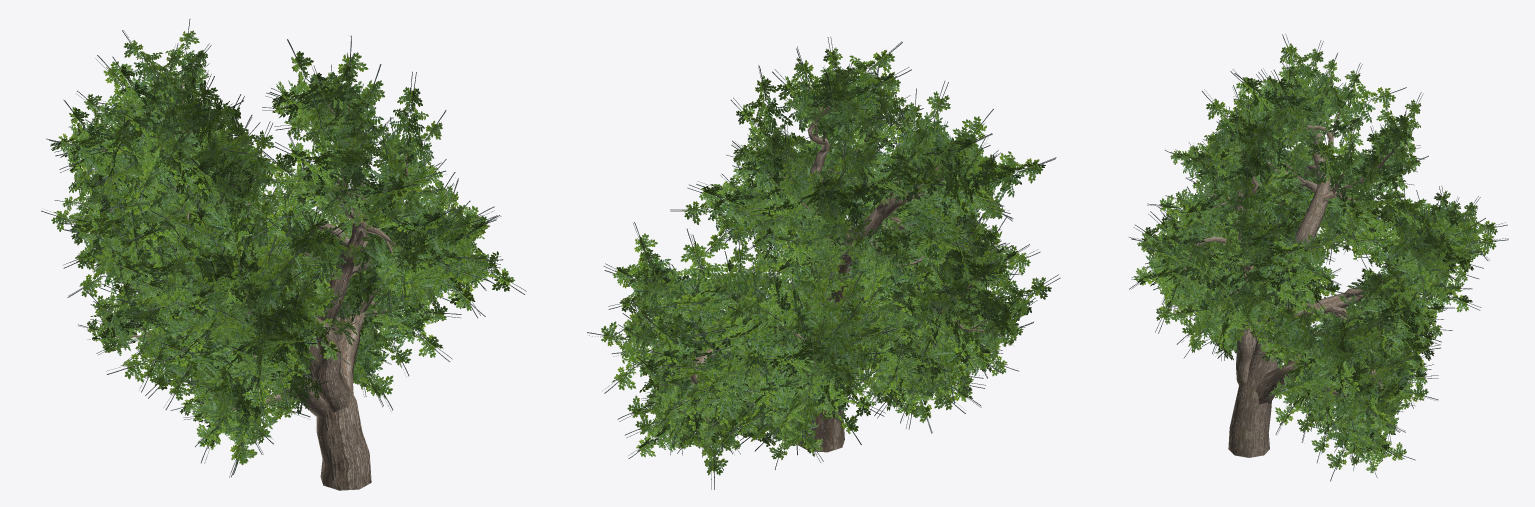
The model's file is eztree-boxelder-understory-d.glb.
The picture shows the model from 3 angles, left to right: view 1: azimuth 30°, elevation 25°; view 2: azimuth 150°, elevation 25°; view 3: azimuth 270°, elevation 25°; orthographic projection. The views are drawn at different scales.
Visible parts, largest first — view 1: eztree-boxelder-understory-d; view 2: eztree-boxelder-understory-d; view 3: eztree-boxelder-understory-d.
Part boxes in pixels (x1,y1,x2,y2): eztree-boxelder-understory-d: (41,19,526,490); eztree-boxelder-understory-d: (587,36,1060,489); eztree-boxelder-understory-d: (1129,34,1508,481).
Size of the model in its own units: 31.94 by 29.3 by 29.71.
Materials: 2 (2 with a texture image).
